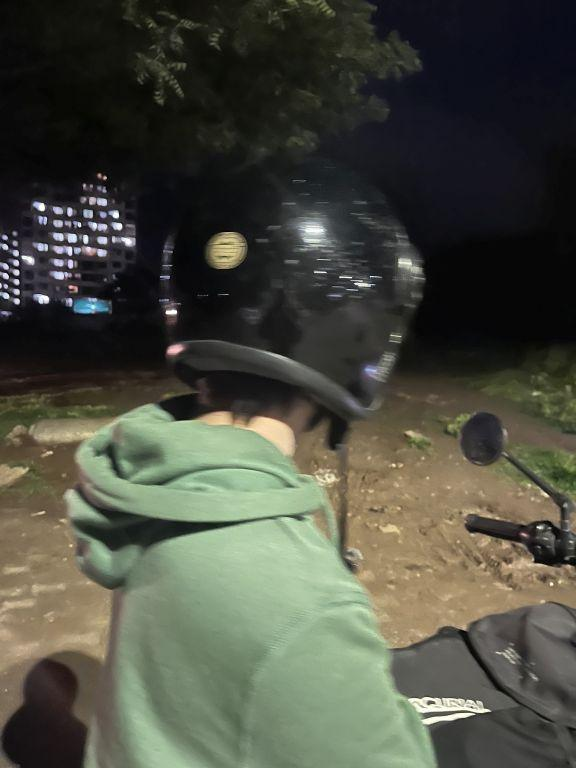helmet: (147, 137, 432, 422)
